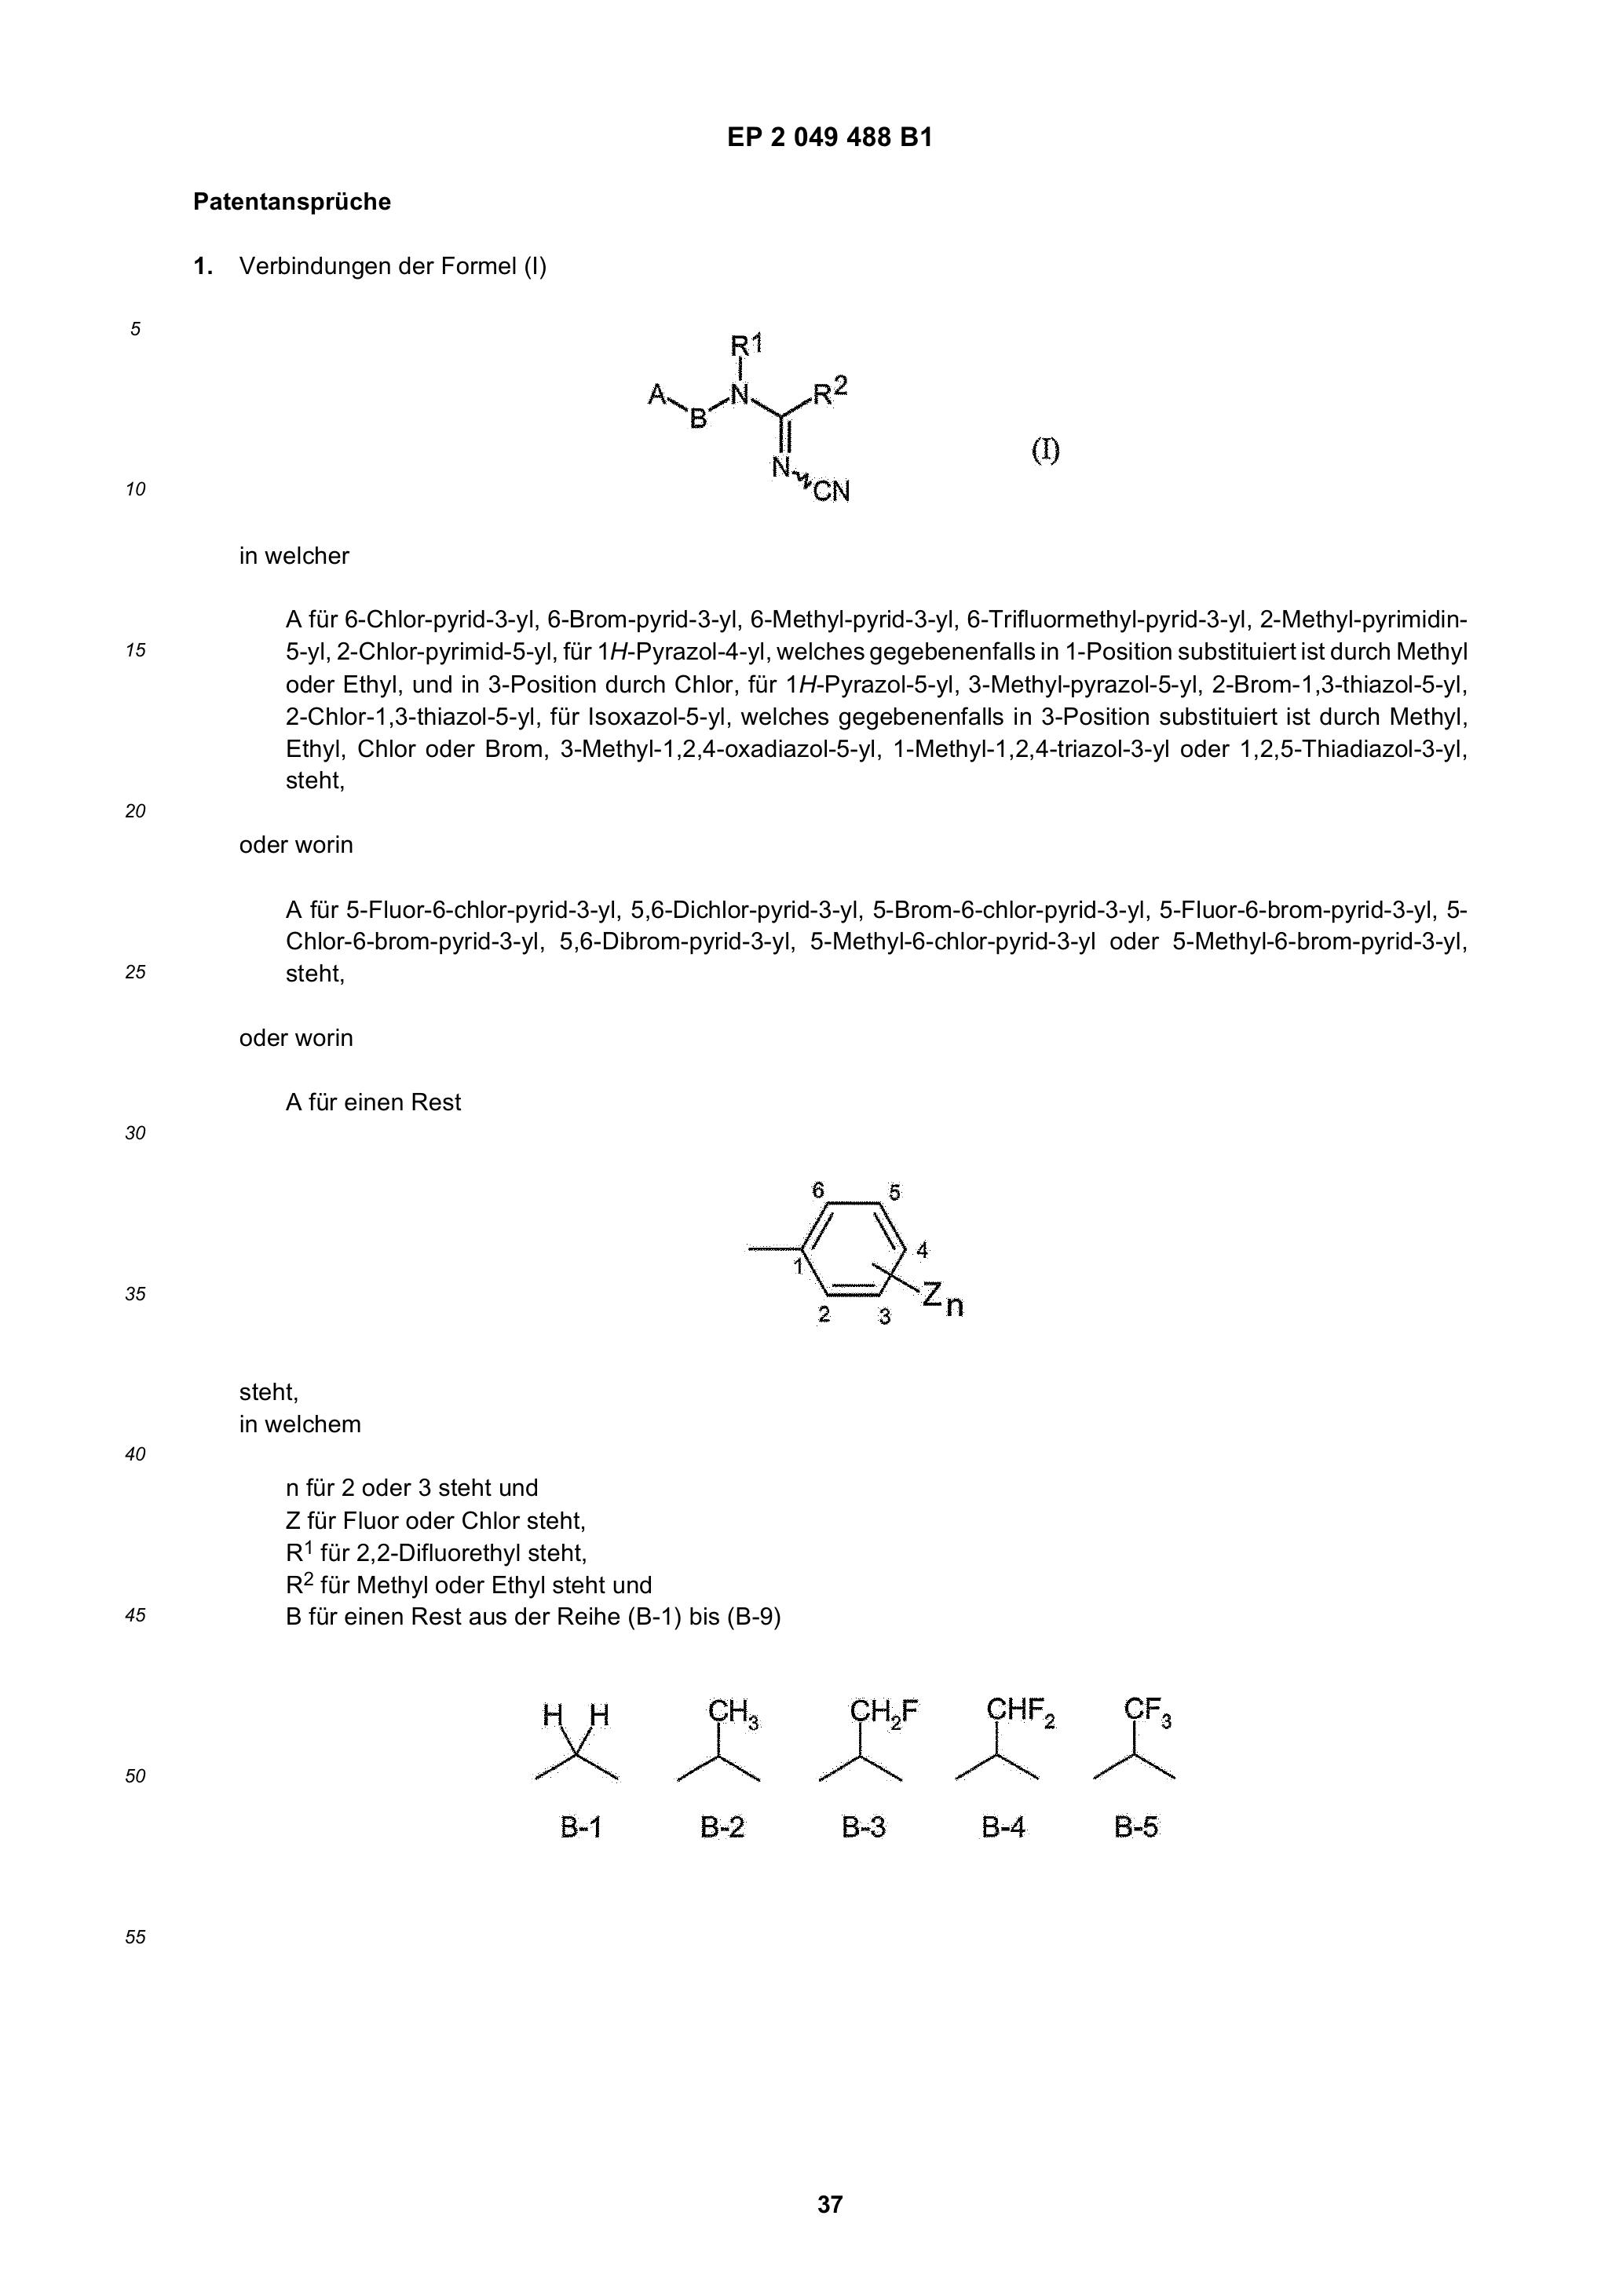markush-structures: (601, 300, 929, 534)
substitutes: (747, 1161, 978, 1381), (664, 1683, 776, 1795), (511, 1688, 634, 1785), (1086, 1688, 1193, 1795), (813, 1674, 919, 1781), (963, 1688, 1064, 1792)
